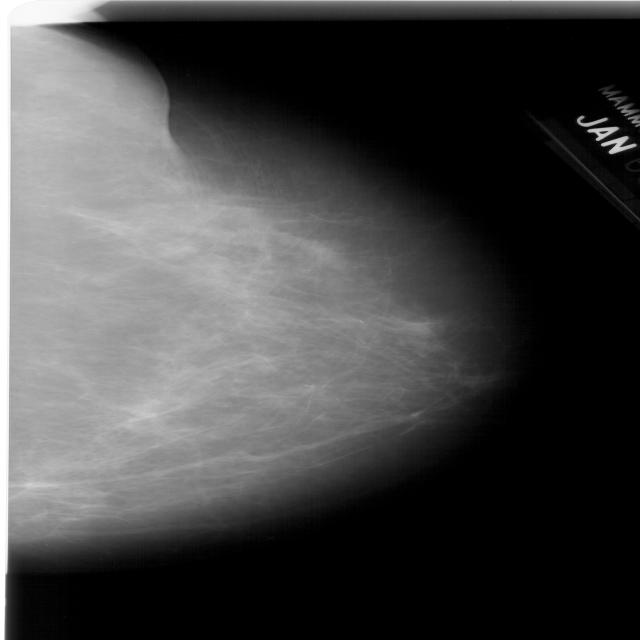normal: (0, 34, 539, 582)
